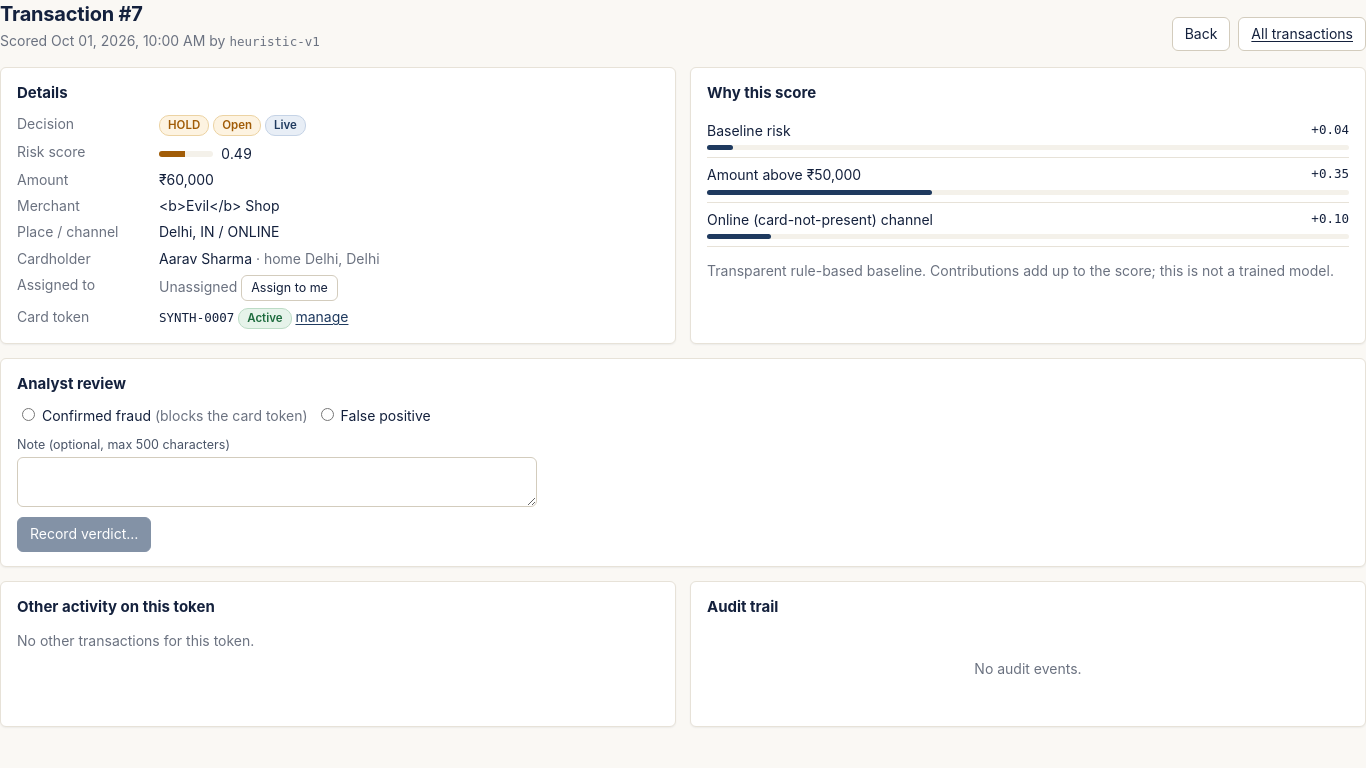
it: investigation flow › records a confirmed-fraud verdict after confirmation and shows the card-block outcome
Expected: the text "Amount above ₹50,000" is shown, [707,166,861,183]
Expected: the button "Record verdict…" is disabled, [17,517,151,552]
Click the radio button labelled "Confirmed fraud (blocks the card token)" at (28, 414), box [22,408,35,421]
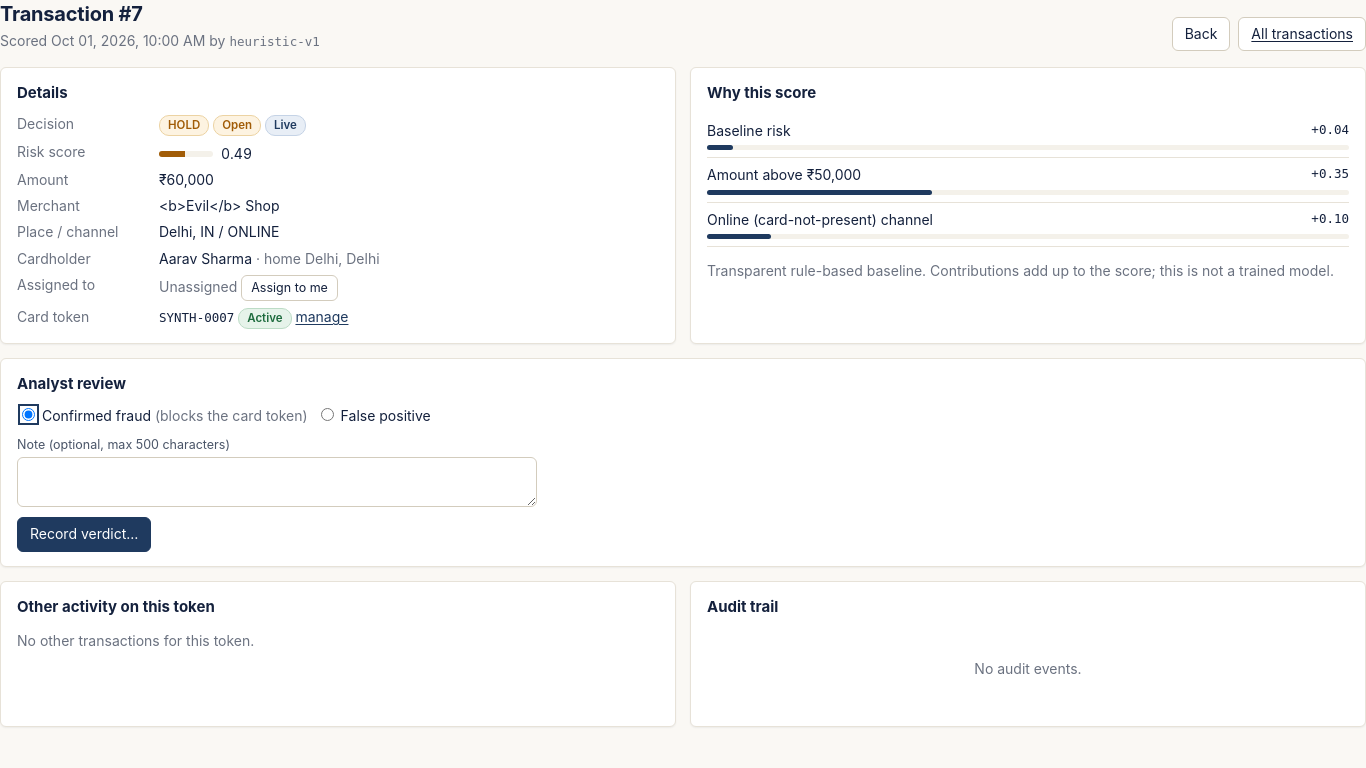
Type "customer called" into the text box labelled "Note (optional, max 500 characters)" at (277, 482), box [17,457,537,507]
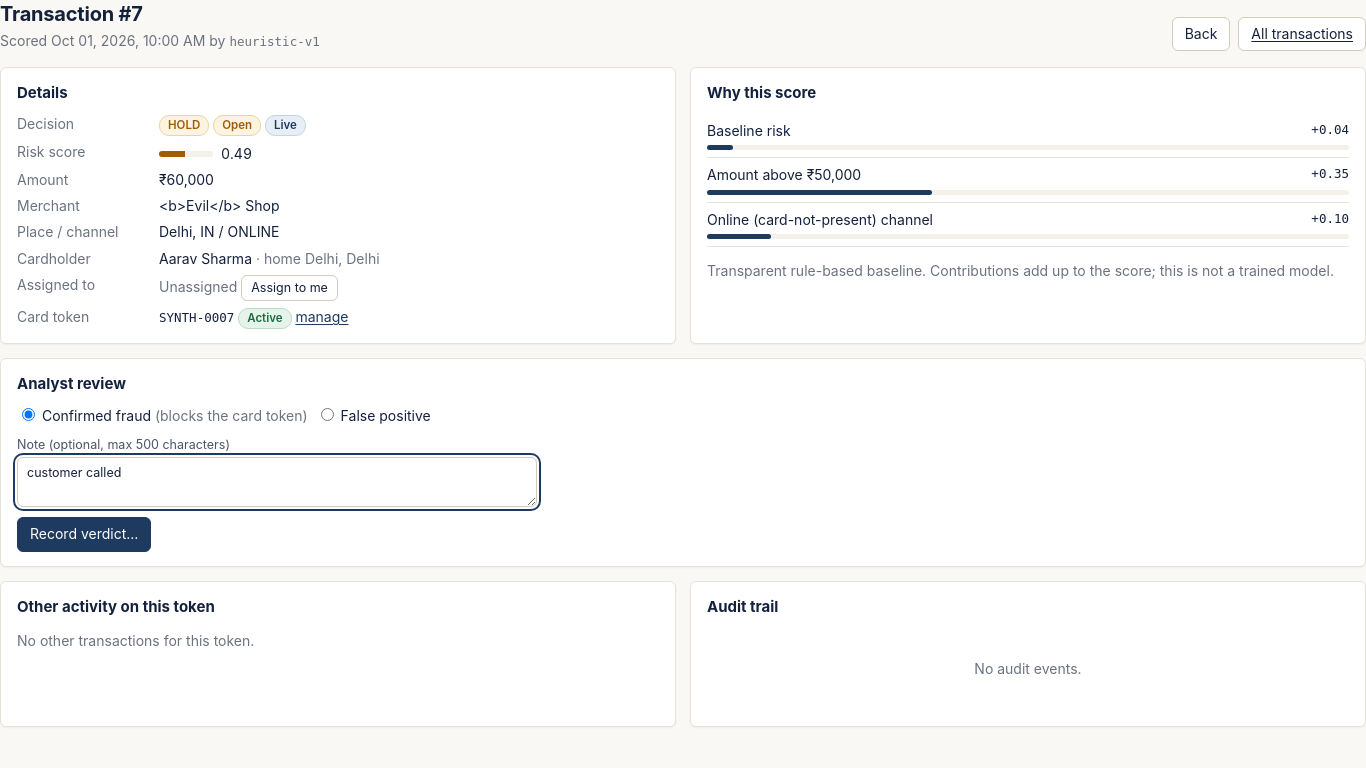
Click the button "Record verdict…" at (84, 534), box [17,517,151,552]
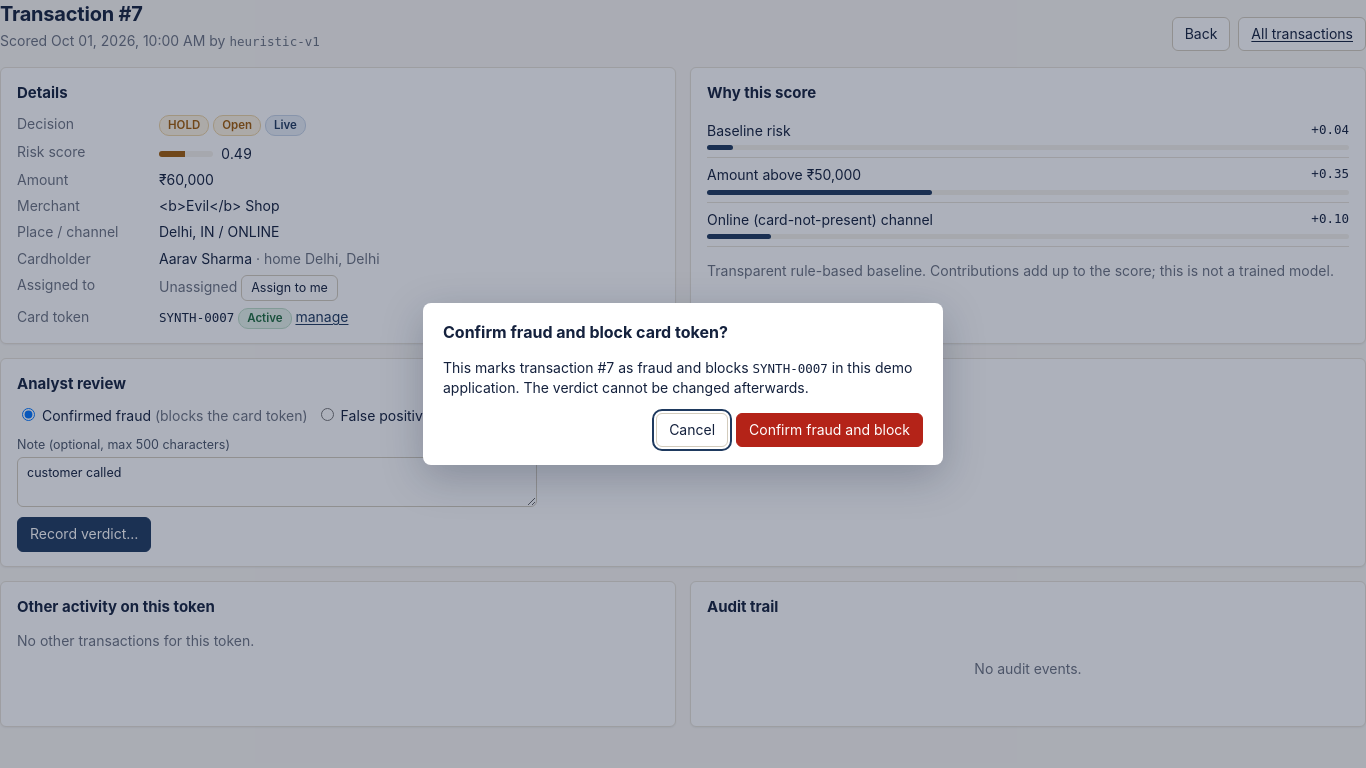
Expected: the text "blocks" is shown, [614,359,753,376]
Click the button "Confirm fraud and block" at (830, 430), box [736,413,923,447]
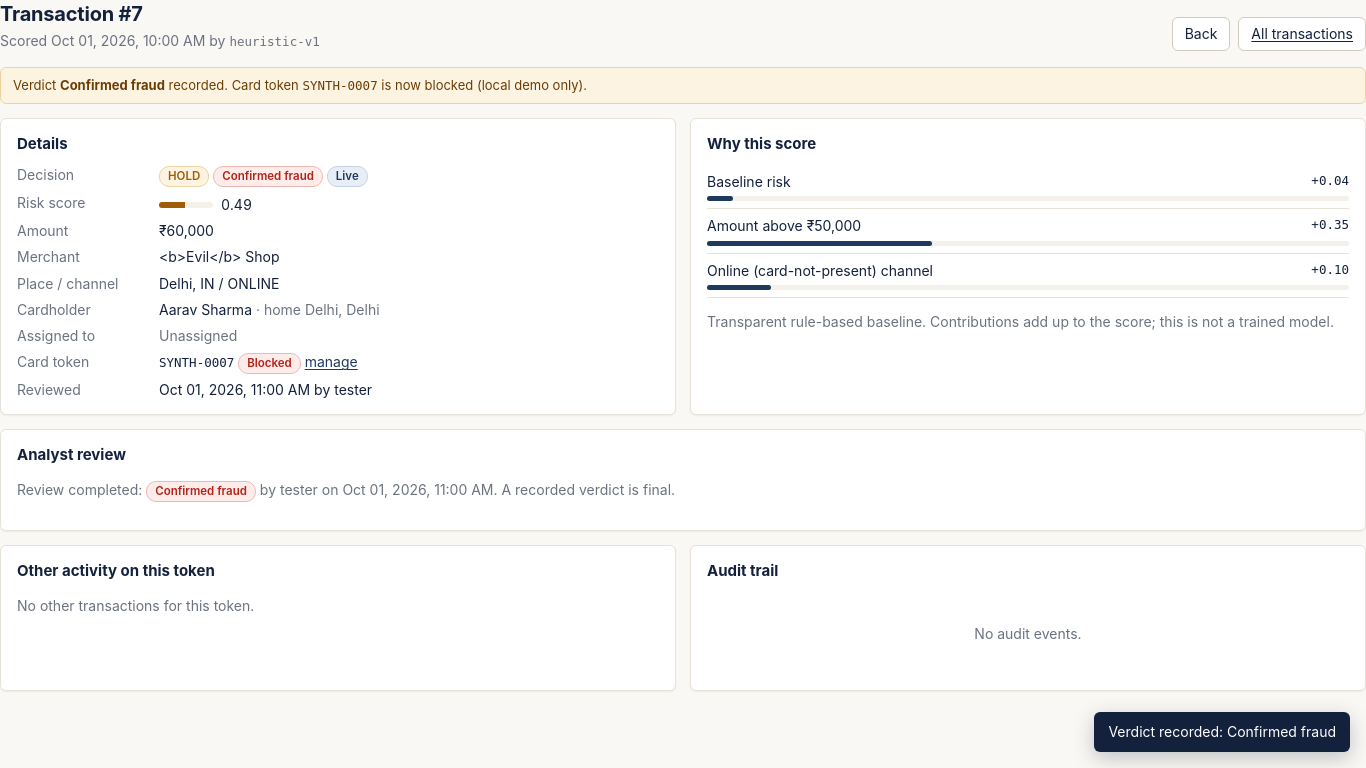
Expected: the text "is now blocked" is shown, [378,77,587,93]
Expected: the text "A recorded verdict is final" is shown, [494,481,675,498]
